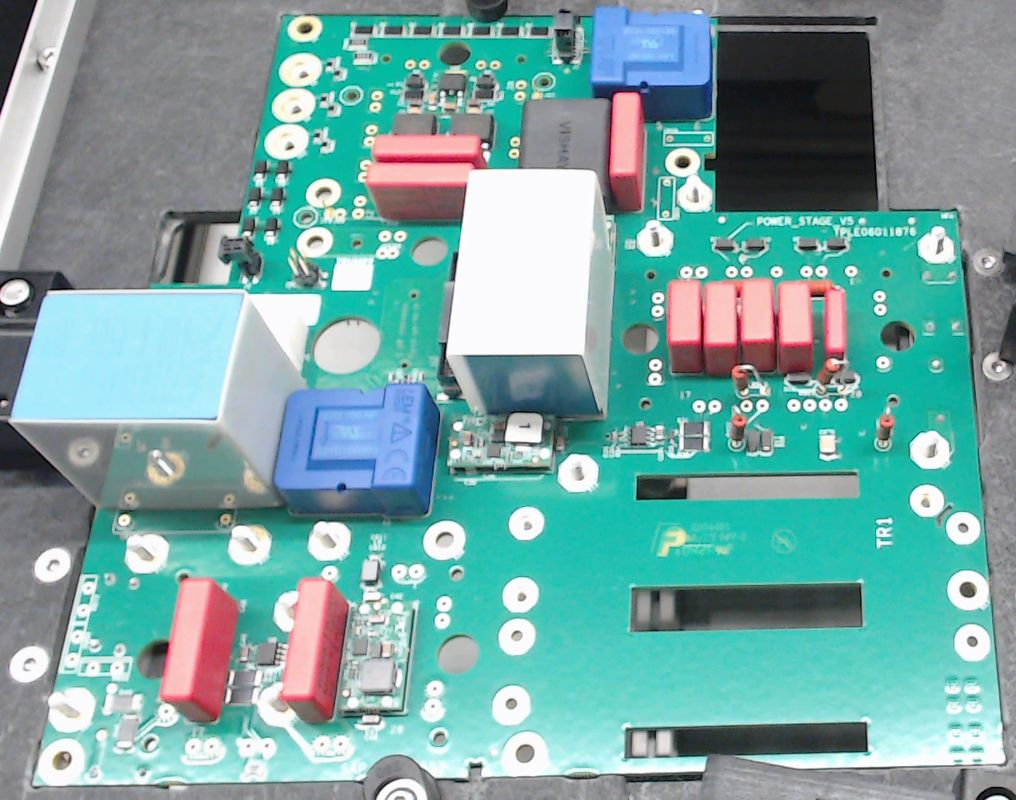comp1: (273, 382, 439, 518), (590, 5, 713, 118)
comp2: (157, 578, 237, 723), (282, 577, 345, 723), (365, 162, 471, 220), (610, 92, 645, 212), (664, 277, 704, 375), (776, 280, 814, 373), (740, 277, 775, 371), (372, 133, 481, 161), (704, 280, 736, 375), (823, 286, 844, 365)
comp3: (520, 97, 610, 171)
comp4: (10, 287, 308, 509), (446, 166, 609, 418)
